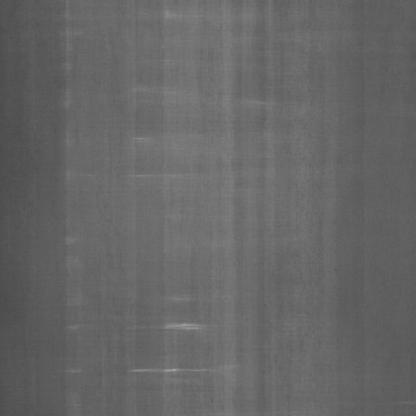waist_folding: (37, 7, 262, 412)
